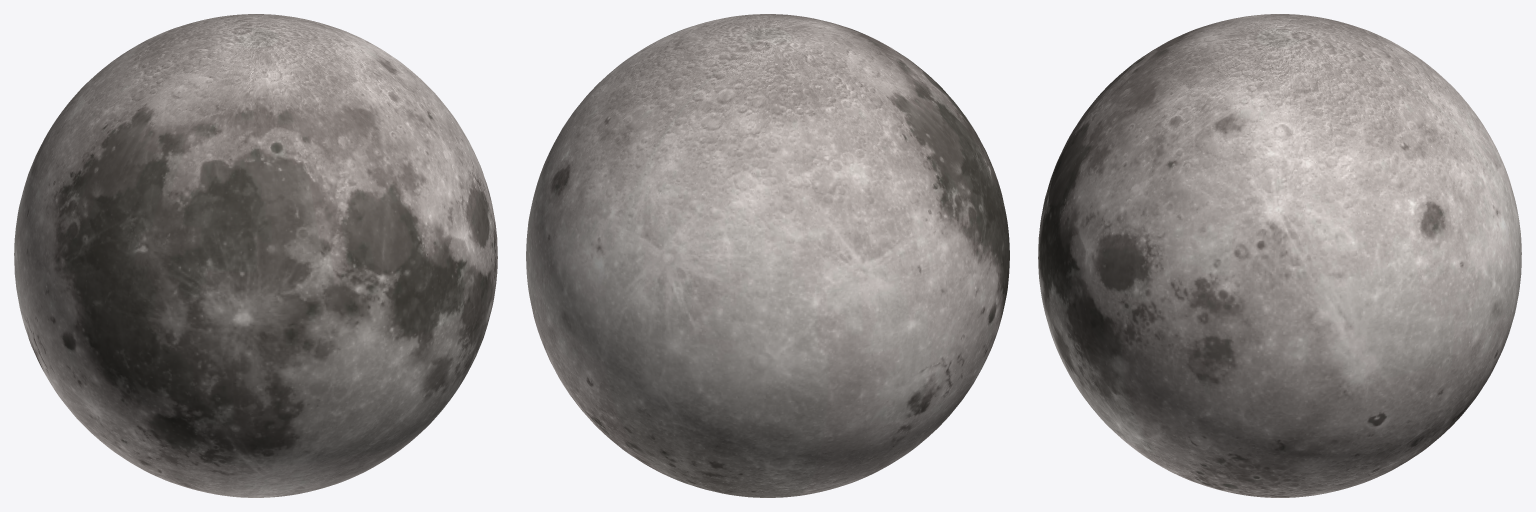
File: moon.gltf
3 views of the same model, side by side, from view 1: azimuth 30°, elevation 25°; view 2: azimuth 150°, elevation 25°; view 3: azimuth 270°, elevation 25° (orthographic).
Visible parts, largest first — view 1: node_id36; view 2: node_id36; view 3: node_id36.
Boxes of the visible parts, x1=… form: node_id36: x1=14, y1=14, x2=497, y2=497; node_id36: x1=526, y1=14, x2=1009, y2=497; node_id36: x1=1038, y1=14, x2=1521, y2=497.
Bounding box in the file's own units: 0.5119 × 0.512 × 0.5119.
1 material, 1 textured.
